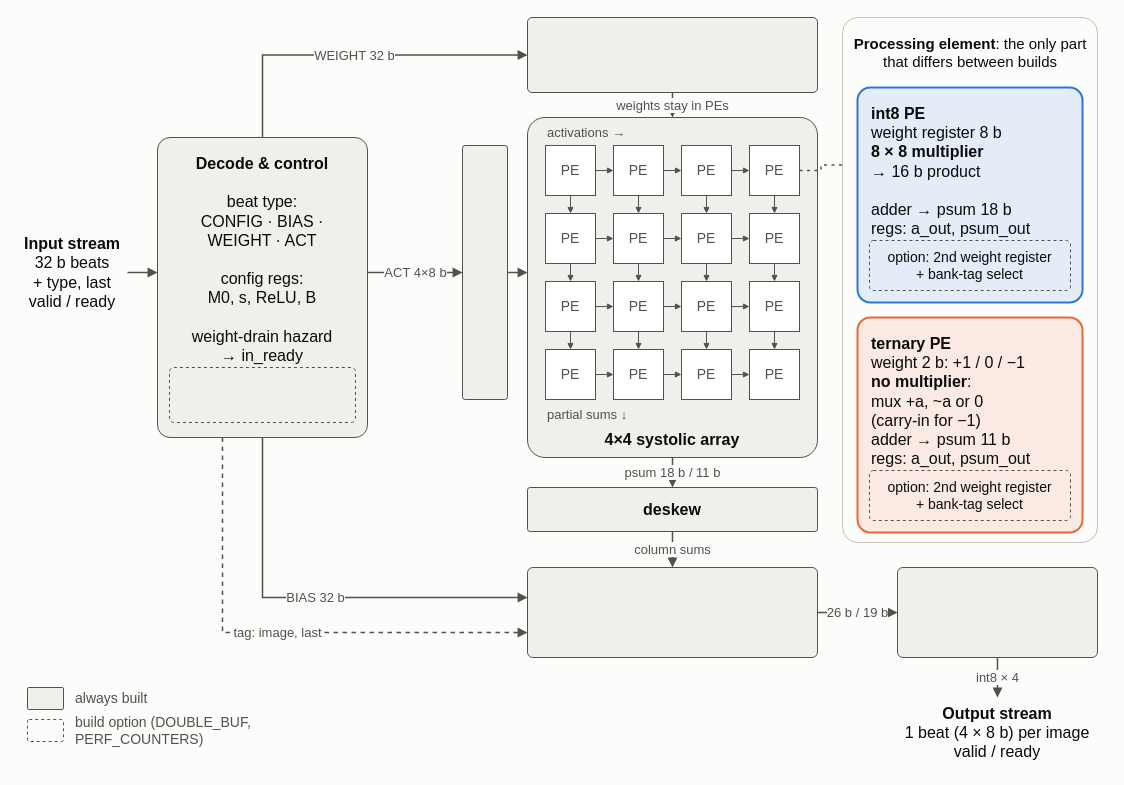
This 1124x785 diagram has some shape labels left out. The box of each missing label's shape, as (x1, y1, x2, y2) in pixels:
Accumulator bank 8 images × 4 outputs registers, start from bias: (526, 566, 818, 658)
option: cycle / ACT counters → STATUS: (168, 366, 356, 422)
Requantise (shared) ×M0, round, >>s clamp to int8: (896, 566, 1098, 658)
skew: (462, 144, 508, 400)
Weight load 1 row / beat (int8) 4 rows / beat (ternary): (526, 16, 818, 92)
